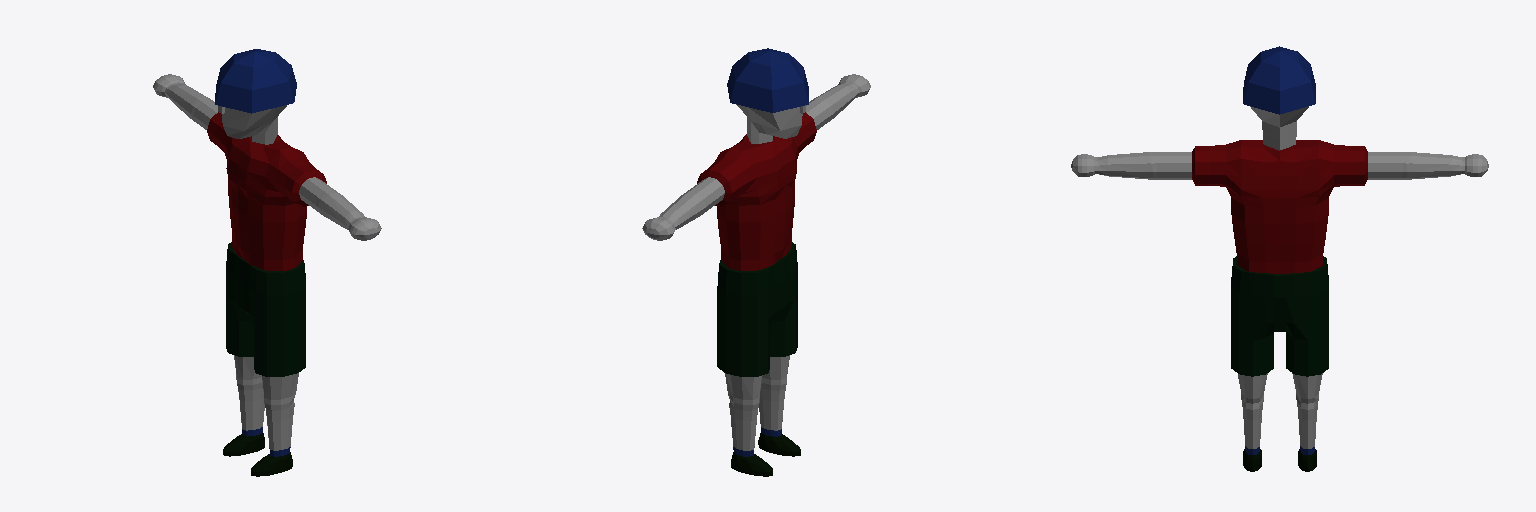
The model's file is PowerManTest01.obj.
The picture shows the model from 3 angles: view 1: azimuth 30°, elevation 25°; view 2: azimuth 150°, elevation 25°; view 3: azimuth 270°, elevation 25°; orthographic projection.
Size of the model in its own units: 2.24 by 10.67 by 9.86.